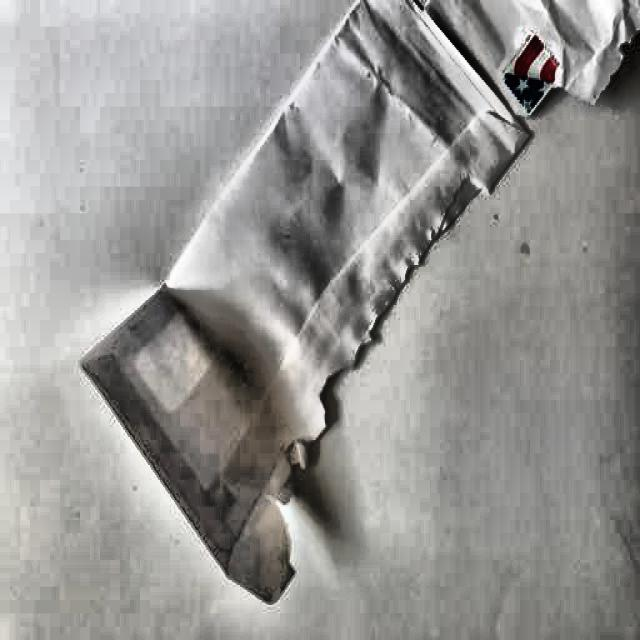paper: (84, 2, 640, 620)
